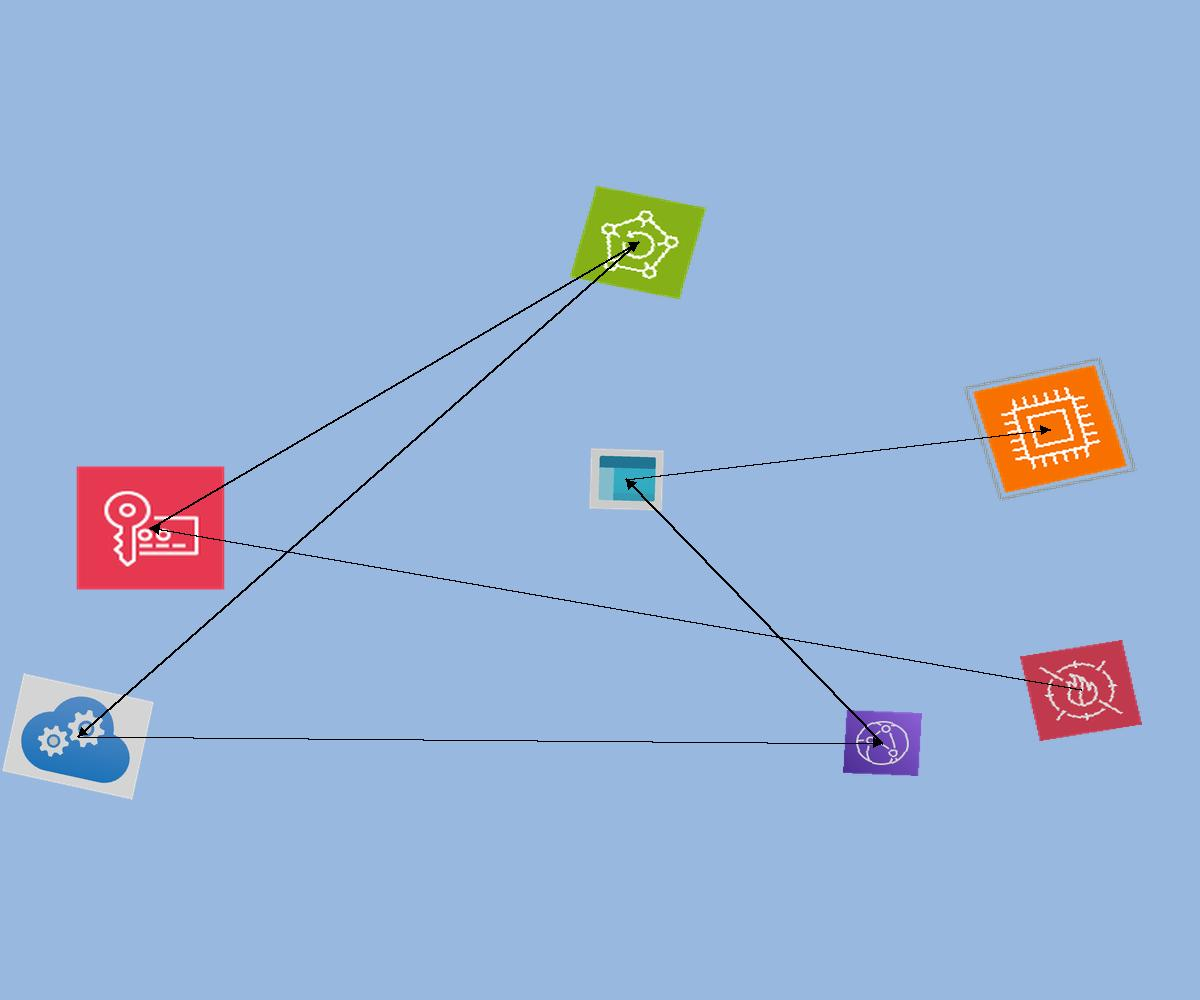AWS-Backup: (569, 185, 707, 300)
AWS-Category_Compute: (962, 356, 1138, 502)
AWS-CloudFront: (843, 710, 922, 776)
AWS-Key-Management-Service: (75, 465, 226, 591)
AWS-WAF: (1020, 640, 1142, 741)
Azure_cloud_services: (2, 673, 154, 800)
Azure_management-portal: (589, 448, 664, 511)
